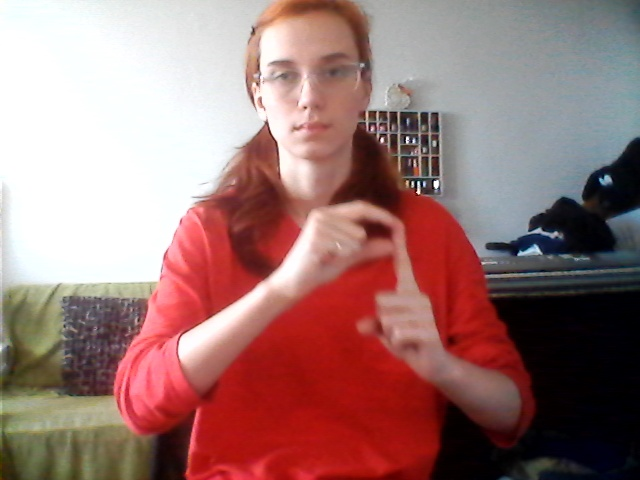p: (285, 194, 445, 390)
